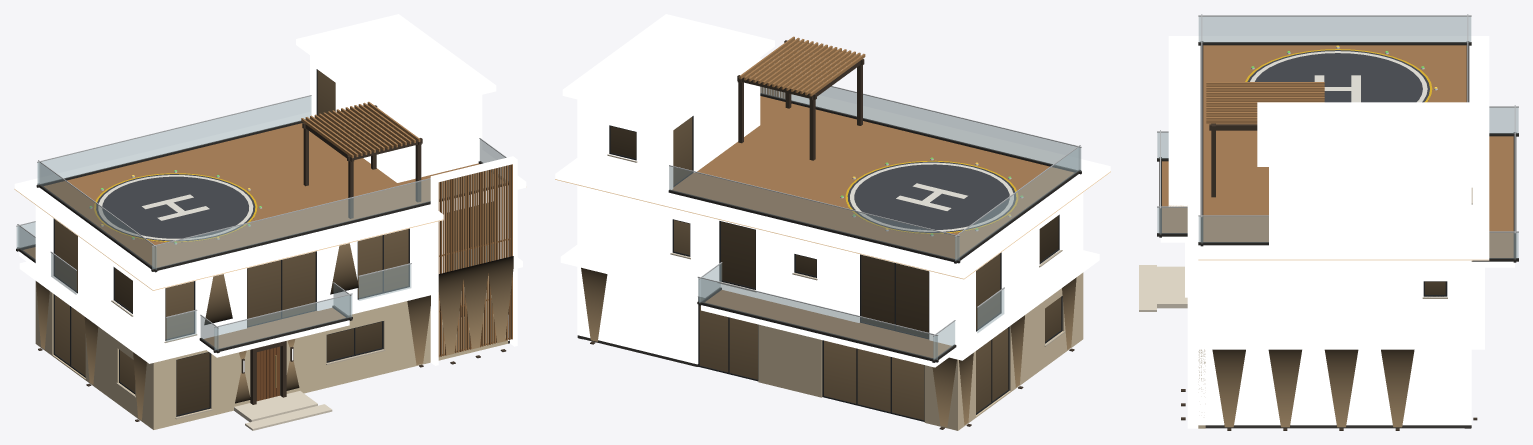
Rendered from facade.glb.
3 renders of one model, left to right at view 1: azimuth 30°, elevation 25°; view 2: azimuth 150°, elevation 25°; view 3: azimuth 270°, elevation 25°, orthographic. The views are drawn at different scales.
Visible parts, largest first — view 1: villa-facade:trim, villa-facade:render, villa-facade:lights, villa-facade:glass, villa-facade:stone; view 2: villa-facade:render, villa-facade:trim, villa-facade:lights, villa-facade:glass, villa-facade:stone; view 3: villa-facade:render, villa-facade:trim, villa-facade:glass, villa-facade:lights, villa-facade:stone.
Boxes of the visible parts, left/top/right/bottom form: villa-facade:trim: left=16, top=69, right=512, bottom=421; villa-facade:render: left=14, top=14, right=526, bottom=365; villa-facade:lights: left=14, top=70, right=513, bottom=420; villa-facade:glass: left=16, top=96, right=508, bottom=350; villa-facade:stone: left=35, top=276, right=507, bottom=430; villa-facade:render: left=555, top=14, right=1110, bottom=367; villa-facade:trim: left=577, top=36, right=1081, bottom=429; villa-facade:lights: left=555, top=117, right=1110, bottom=426; villa-facade:glass: left=669, top=87, right=1081, bottom=359; villa-facade:stone: left=758, top=272, right=1083, bottom=430; villa-facade:render: left=1160, top=36, right=1514, bottom=428; villa-facade:trim: left=1157, top=14, right=1518, bottom=430; villa-facade:glass: left=1157, top=16, right=1518, bottom=258; villa-facade:lights: left=1169, top=45, right=1488, bottom=427; villa-facade:stone: left=1139, top=265, right=1205, bottom=428.
Bounding box in the file's own units: 17.46 × 10.2 × 12.85.
